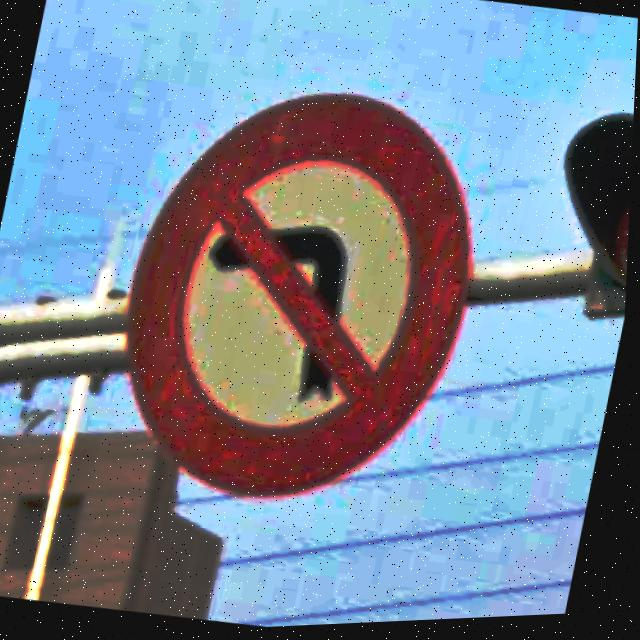noturnleft: (92, 60, 511, 531)
